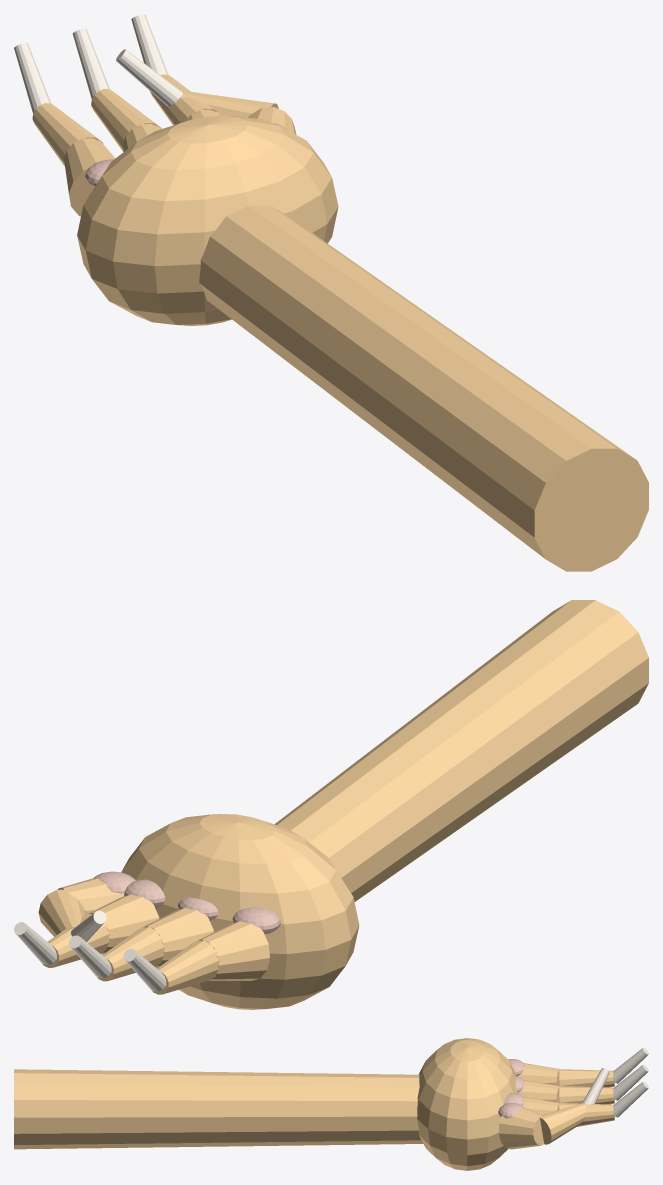
The model's file is paw_sharp.glb.
3 views of the same model, one above another, from view 1: azimuth 30°, elevation 25°; view 2: azimuth 150°, elevation 25°; view 3: azimuth 270°, elevation 25° (orthographic). The views are drawn at different scales.
Visible parts, largest first — view 1: Paw; view 2: Paw; view 3: Paw.
Boxes of the visible parts, bbox=[...] form: Paw: bbox=[14, 14, 648, 571]; Paw: bbox=[14, 600, 648, 1009]; Paw: bbox=[14, 1038, 648, 1170].
Bounding box in the file's own units: 0.0677 × 0.0468 × 0.2381.
